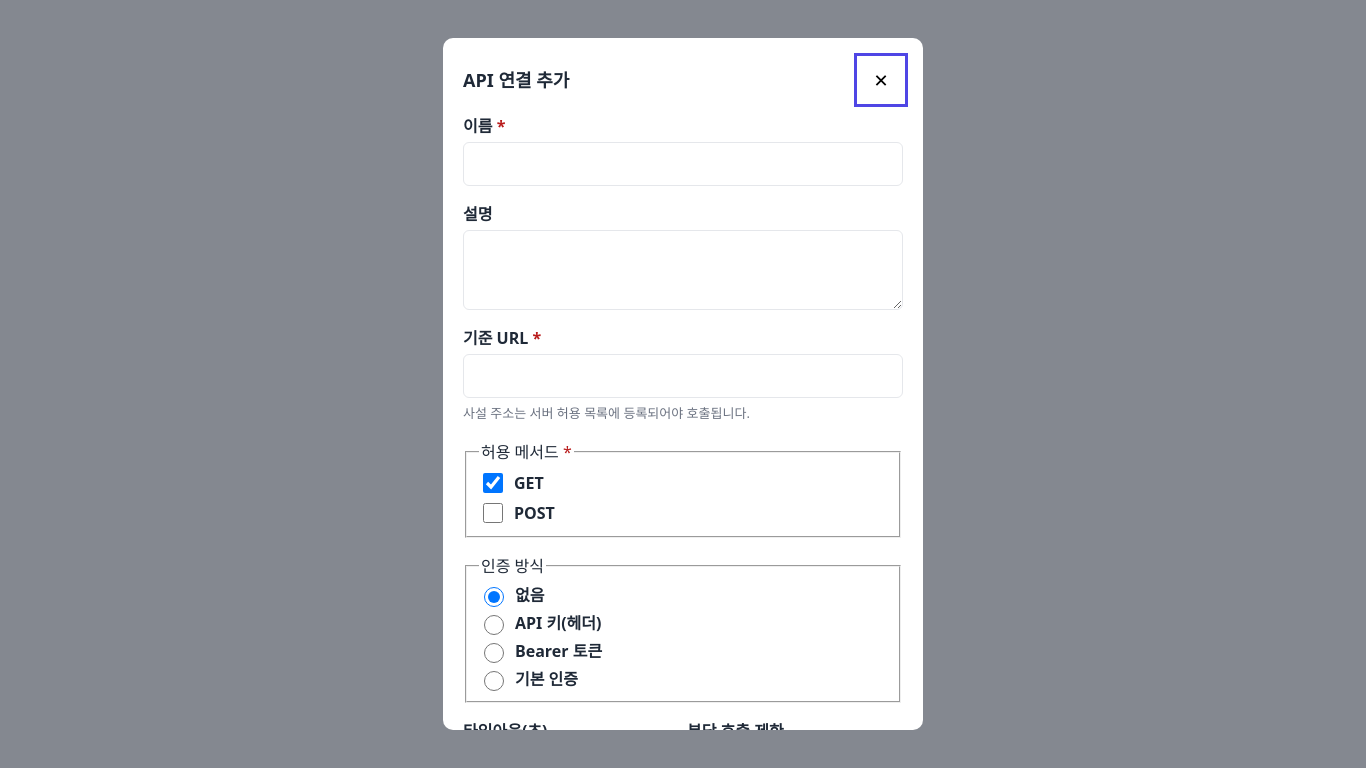
Test: ApiConnectionEditModal › 원문 개인정보 송신 허용을 켜고 확인 필드가 이름과 다르면 저장 버튼이 비활성(aria-disabled)된다
The width and height of the screenshot is (1366, 768).
Type "ERP 주문" into the field labelled "이름 *".
click(683, 164); type("ERP 주문")  # box x1=463 y1=142 x2=903 y2=186
(page scrolled)
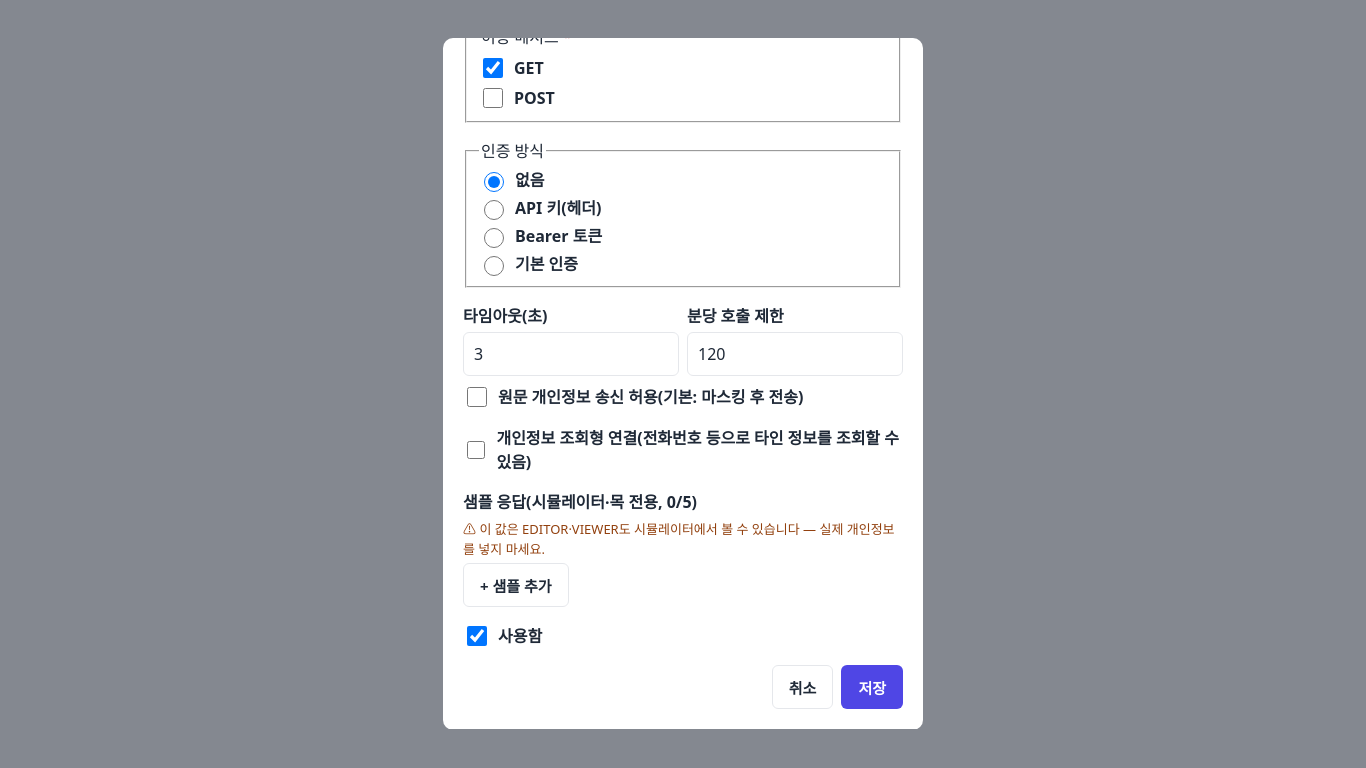
Click the checkbox labelled "원문 개인정보 송신 허용(기본: 마스킹 후 전송)".
click(477, 397)  # box x1=467 y1=387 x2=487 y2=407
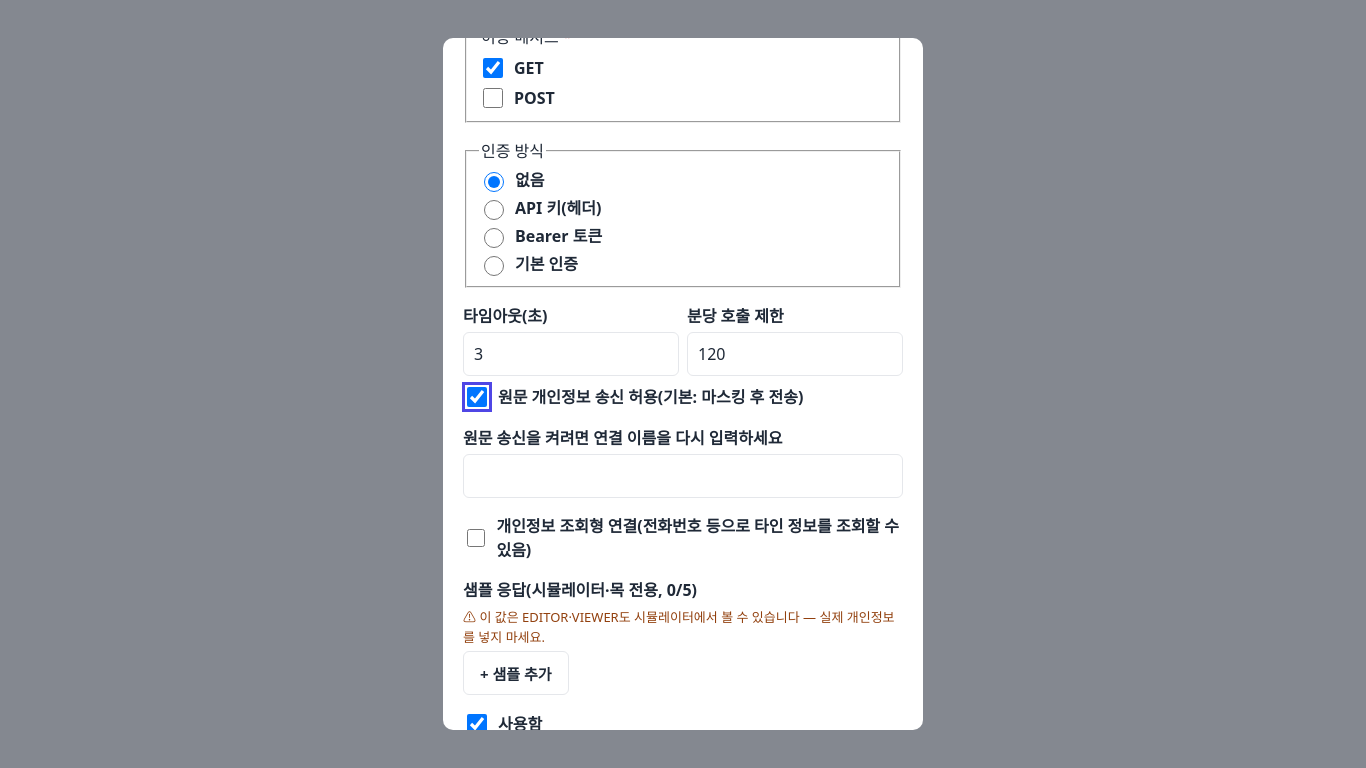
Type "다른이름" into the field labelled "원문 송신을 켜려면 연결 이름을 다시 입력하세요".
click(683, 476); type("다른이름")  # box x1=463 y1=454 x2=903 y2=498
(page scrolled)
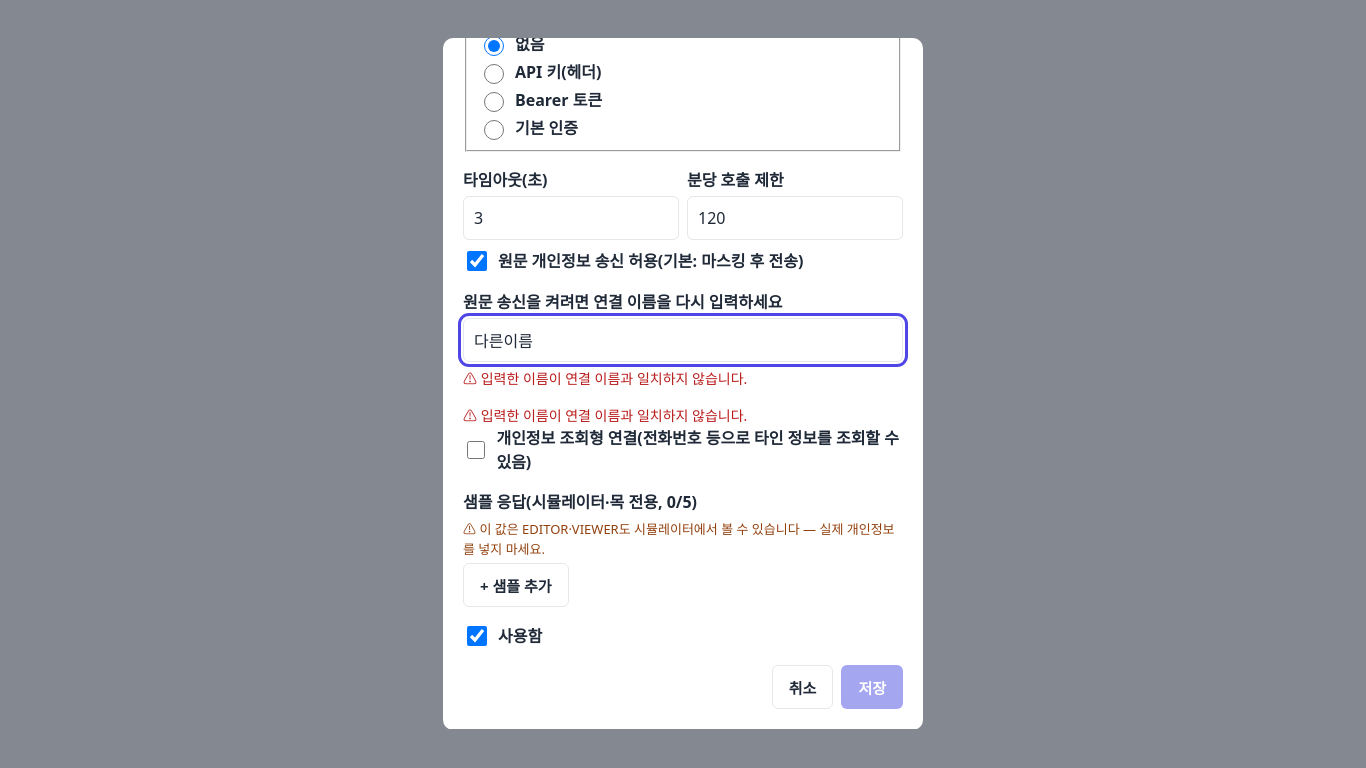
Check: the button "저장" is disabled, box x1=841 y1=665 x2=903 y2=709
